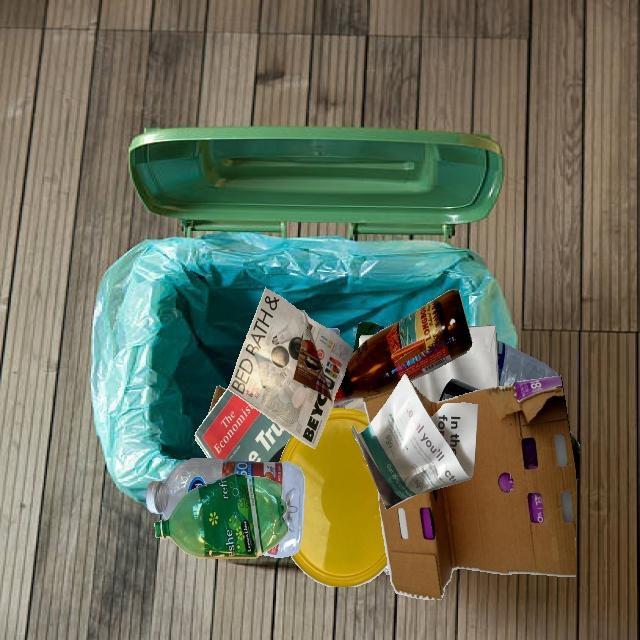cardboard: (377, 375, 576, 600), (208, 386, 226, 415)
glass: (332, 289, 472, 406), (438, 379, 481, 402), (570, 431, 580, 481), (345, 398, 367, 414)
paper: (228, 287, 353, 449), (351, 374, 478, 510), (231, 312, 345, 417), (425, 325, 499, 390), (195, 417, 293, 462), (360, 340, 425, 404), (419, 386, 445, 403)
plastic: (279, 408, 388, 587), (145, 459, 304, 558), (154, 473, 288, 558), (497, 340, 558, 386), (328, 328, 340, 337), (332, 402, 345, 409), (383, 564, 390, 574)
